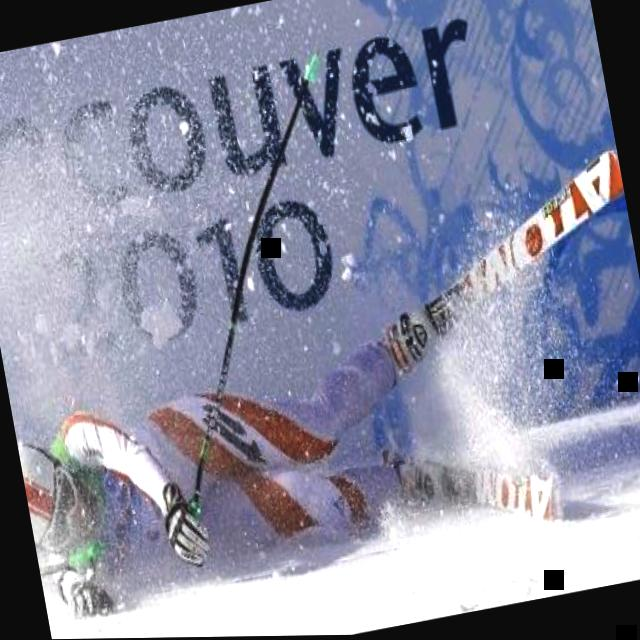Fall-Detected: (3, 258, 630, 627)
